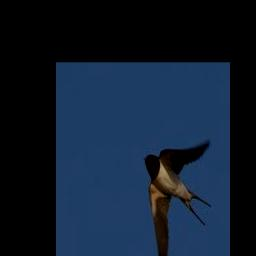Swallow: (144, 140, 212, 256)
